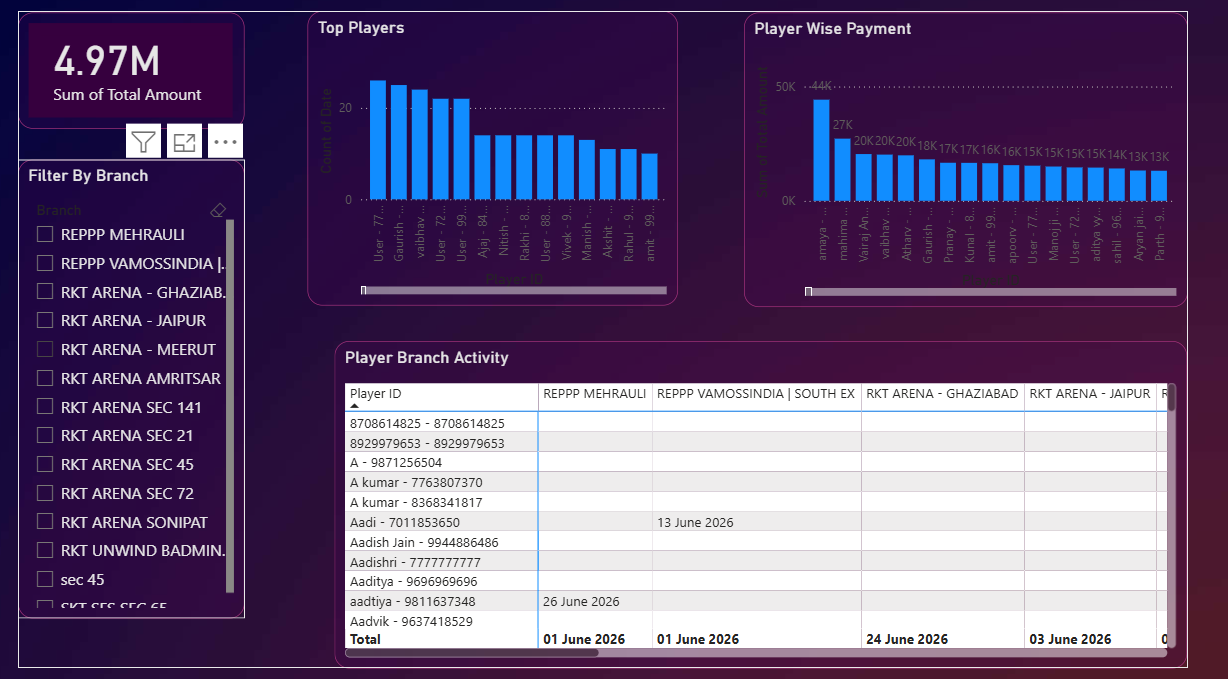

This screenshot's page, from the dashboard's own definition file:
{"tool":"powerbi","page":{"name":"Page 1","canvas":[1280,720],"ordinal":0},"visuals":[{"type":"clusteredColumnChart","title":"Top Players","fields":{"Category":["pub?gid=0&single=true&output=csv.Player ID"],"Y":["CountNonNull(pub?gid=0&single=true&output=csv.Date)"]},"box":[325.8,27.9,373.9,297.1],"z":0,"group":"g1"},{"type":"clusteredColumnChart","title":"Player Wise Payment","fields":{"Category":["pub?gid=0&single=true&output=csv.Player ID"],"Y":["Sum(pub?gid=0&single=true&output=csv.Total Amount)"]},"box":[766.2,29,447.8,297.1],"z":1000,"group":"g1"},{"type":"cardVisual","fields":{"Data":["Sum(pub?gid=0&single=true&output=csv.Total Amount)"]},"box":[34.3,29,229,117.4],"z":2000,"group":"g1"},{"type":"slicer","title":"Filter By Branch","fields":{"Values":["pub?gid=0&single=true&output=csv.Branch"]},"box":[33.8,177.1,228.6,463.3],"z":3000,"group":"g1"},{"type":"pivotTable","title":"Player Branch Activity","fields":{"Rows":["pub?gid=0&single=true&output=csv.Player ID"],"Columns":["pub?gid=0&single=true&output=csv.Branch"],"Values":["Min(pub?gid=0&single=true&output=csv.Date)"]},"box":[353.2,360.8,860.9,330.4],"z":4000,"group":"g1"},{"type":"group","id":"g1","title":"Group 1","box":[33.8,27.9,1180.9,663.2],"z":4001}]}

Visuals, with their boxes in screenshot pixels (x1, y1, x2, y2), scaled from the page's 1280x720 canvas onto the 1228x679 screenshot:
"Top Players" clusteredColumnChart: {"left": 313, "top": 26, "right": 671, "bottom": 306}
"Player Wise Payment" clusteredColumnChart: {"left": 735, "top": 27, "right": 1165, "bottom": 308}
cardVisual - Sum(pub?gid=0&single=true&output=csv.Total Amount): {"left": 33, "top": 27, "right": 253, "bottom": 138}
"Filter By Branch" slicer: {"left": 32, "top": 167, "right": 252, "bottom": 604}
"Player Branch Activity" pivotTable: {"left": 339, "top": 340, "right": 1165, "bottom": 652}
"Group 1" group: {"left": 32, "top": 26, "right": 1165, "bottom": 652}
